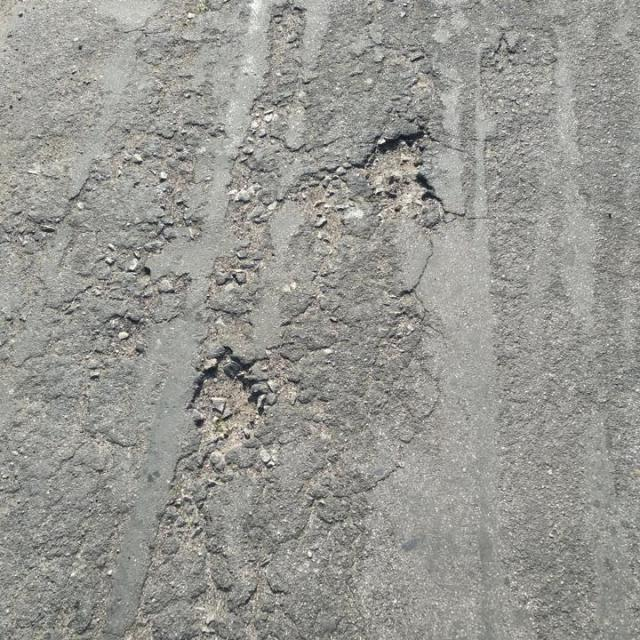Pothole: (186, 343, 267, 450), (361, 124, 442, 223)
